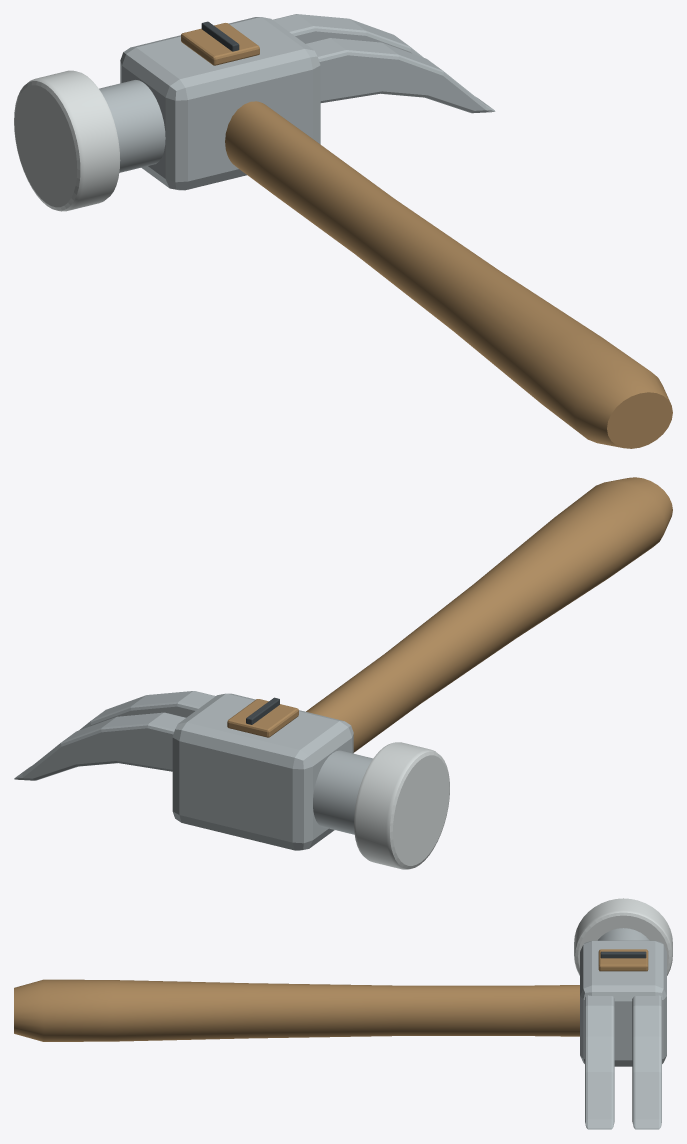
File: city-claw-hammer.glb
3 views of the same model, one above another, from view 1: azimuth 30°, elevation 25°; view 2: azimuth 150°, elevation 25°; view 3: azimuth 270°, elevation 25° (orthographic). The views are drawn at different scales.
Parts seen in each view (by area): view 1: Assembly | Plain sealed wooden handle color, Assembly | Satin forged tool steel, Assembly | Bright machined surfaces; view 2: Assembly | Satin forged tool steel, Assembly | Plain sealed wooden handle color, Assembly | Bright machined surfaces; view 3: Assembly | Plain sealed wooden handle color, Assembly | Satin forged tool steel, Assembly | Bright machined surfaces, Assembly | Dark steel and fittings.
Boxes of the visible parts, x1,y1,x2,y2 form: Assembly | Plain sealed wooden handle color: [181, 23, 672, 448]; Assembly | Satin forged tool steel: [99, 14, 495, 190]; Assembly | Bright machined surfaces: [14, 70, 120, 211]; Assembly | Satin forged tool steel: [14, 691, 372, 850]; Assembly | Plain sealed wooden handle color: [227, 477, 672, 752]; Assembly | Bright machined surfaces: [354, 742, 449, 869]; Assembly | Plain sealed wooden handle color: [14, 949, 648, 1041]; Assembly | Satin forged tool steel: [580, 928, 666, 1129]; Assembly | Bright machined surfaces: [574, 898, 672, 975]; Assembly | Dark steel and fittings: [600, 951, 646, 958].
Bounding box in the file's own units: 0.1802 × 0.0535 × 0.333.
